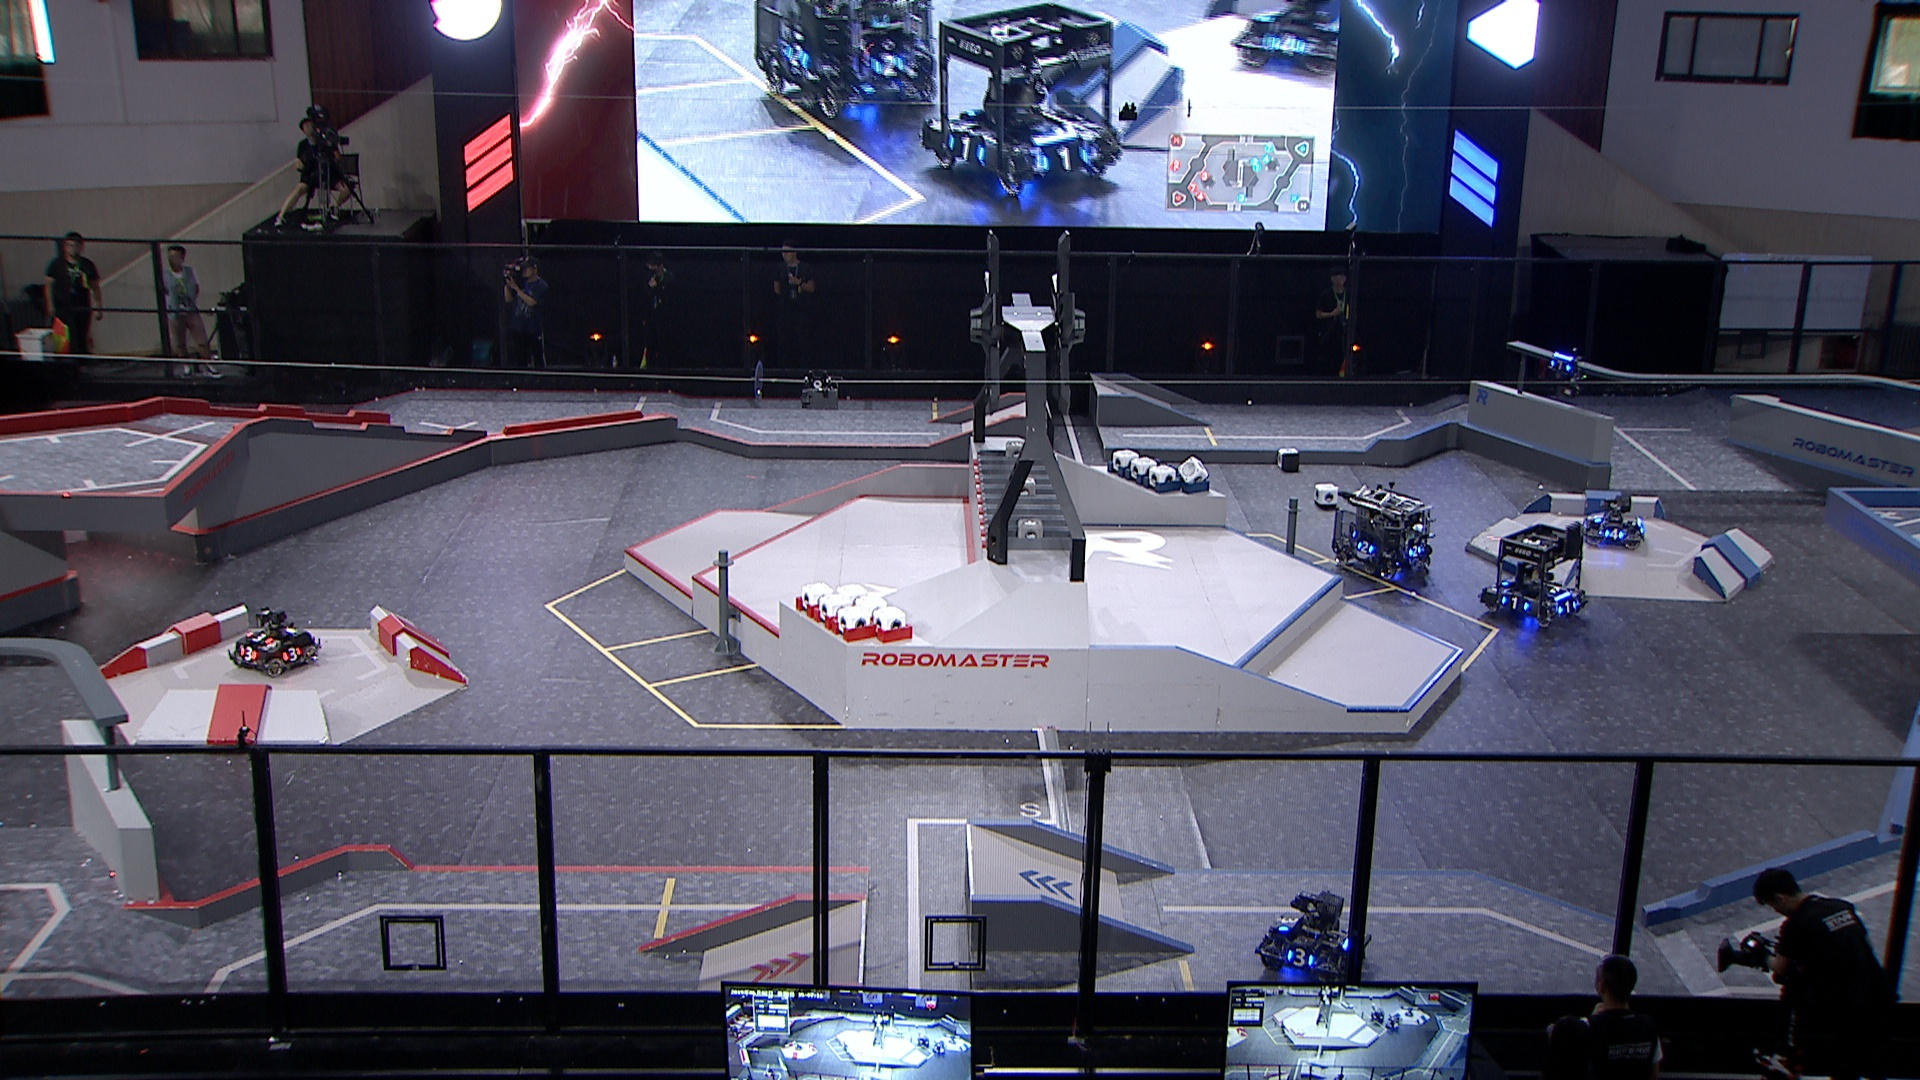armor: (1283, 945, 1315, 968), (1276, 913, 1299, 935), (1501, 595, 1528, 611), (243, 629, 272, 644), (1547, 357, 1571, 373), (1604, 527, 1627, 542), (1556, 600, 1577, 616), (237, 645, 258, 661), (1406, 543, 1424, 560), (281, 646, 301, 662), (1354, 541, 1375, 555)
car: (1477, 520, 1588, 629), (1253, 889, 1371, 986), (1329, 479, 1436, 580), (225, 608, 319, 680), (1580, 489, 1644, 551)
ignore: (916, 3, 1124, 196)
watcher: (1545, 347, 1588, 398)
